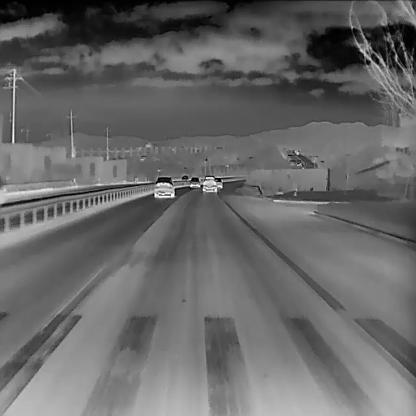car: (153, 174, 176, 197), (202, 174, 217, 192), (189, 175, 200, 188), (213, 176, 223, 189), (180, 173, 189, 182)
